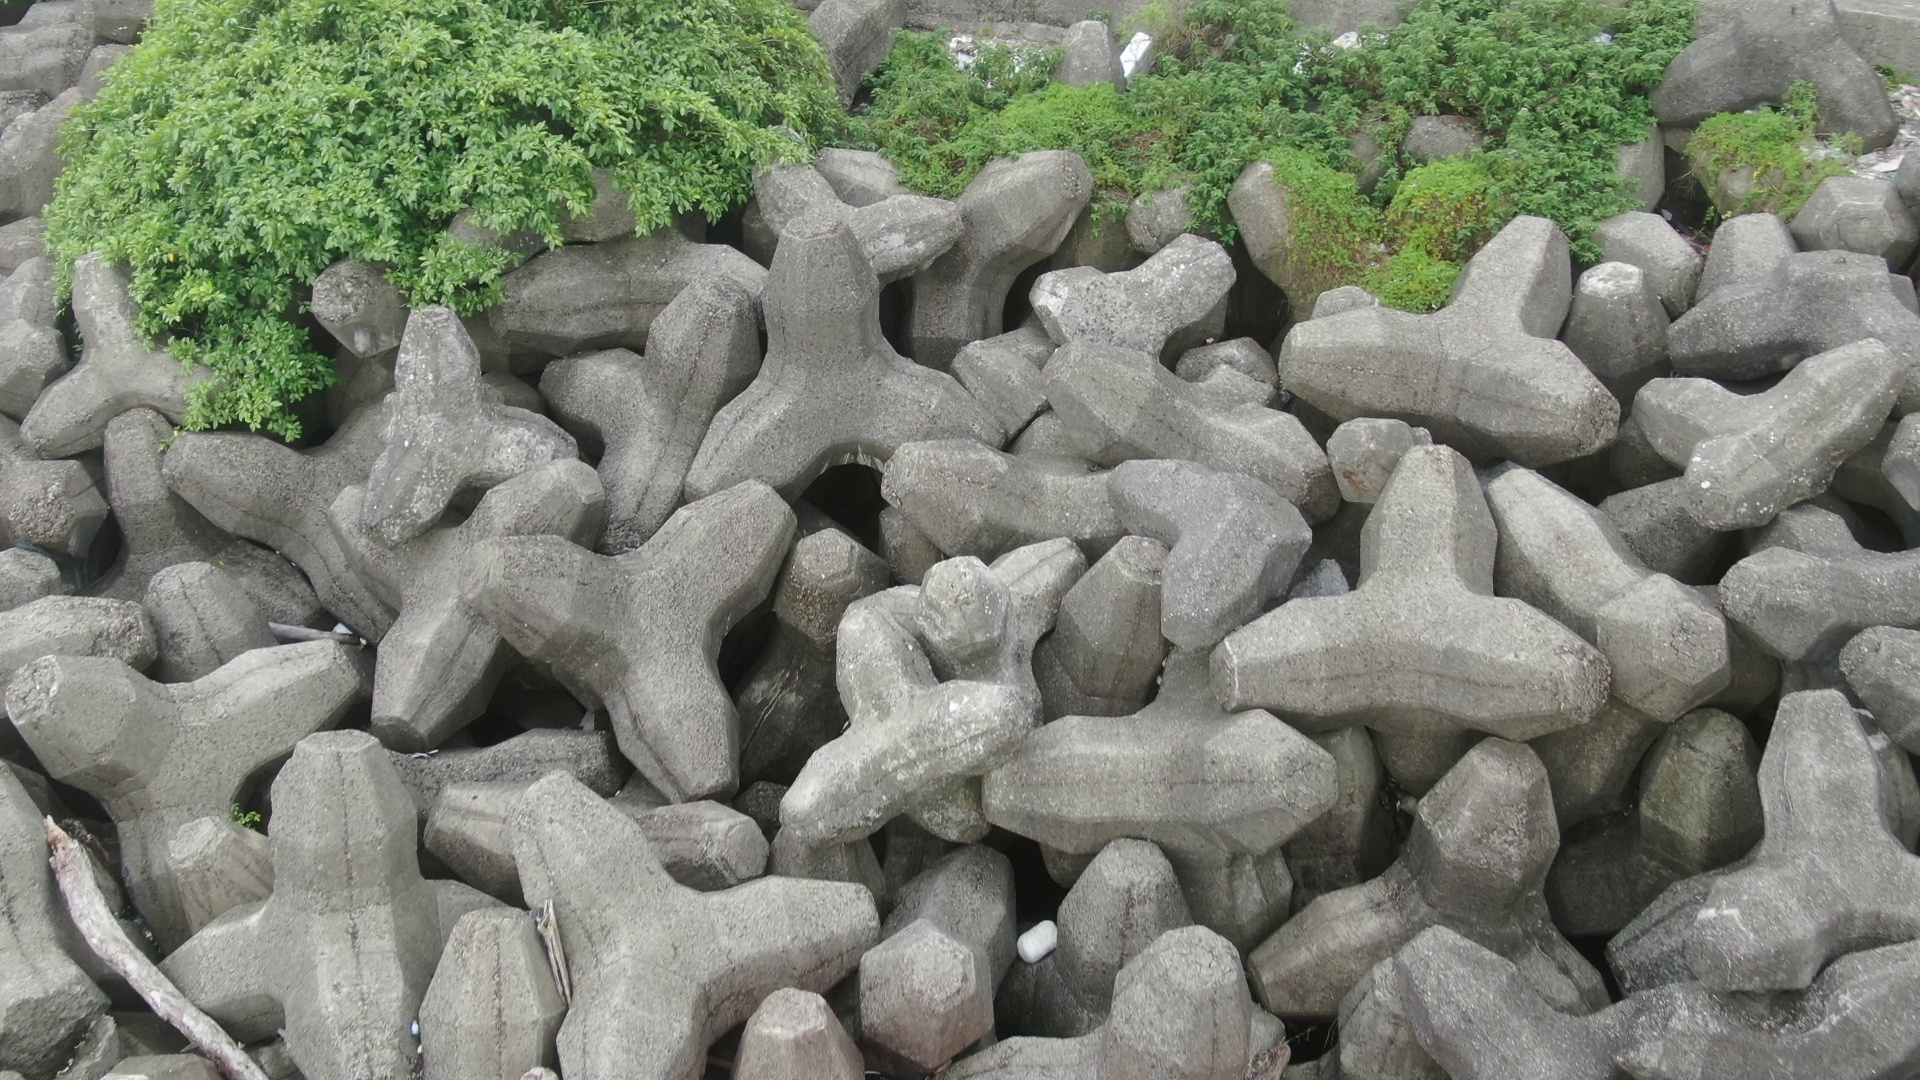garbage: (1002, 913, 1077, 969)
